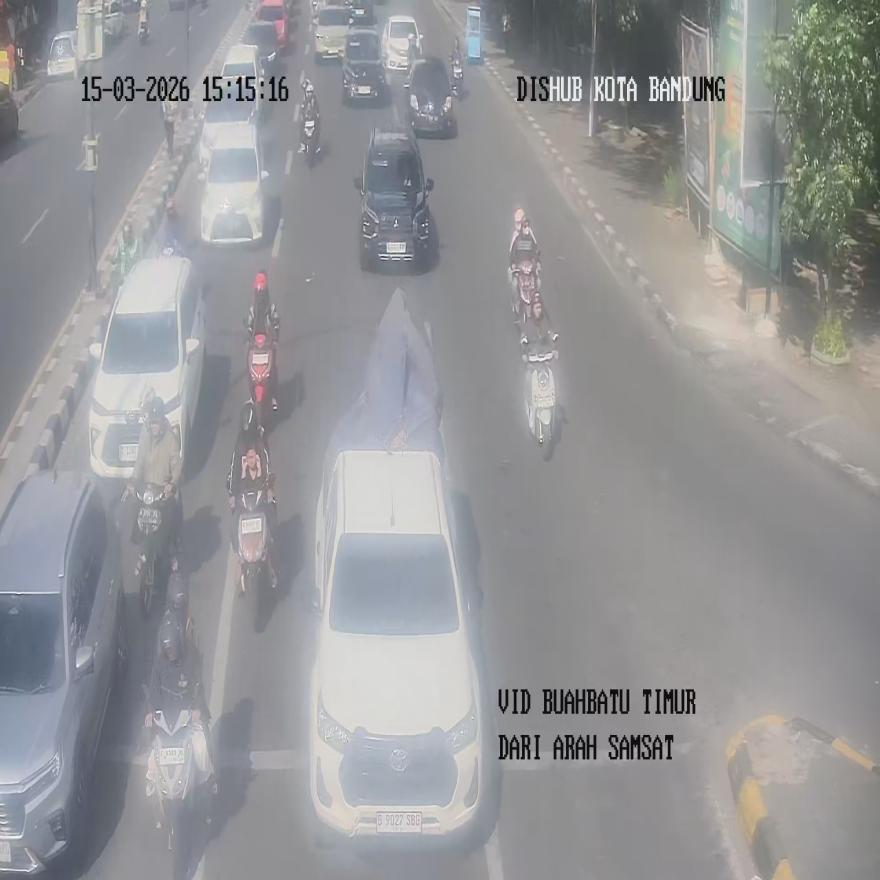Motor: (306, 436, 484, 850), (0, 466, 127, 874), (88, 254, 206, 483), (354, 123, 434, 266), (199, 120, 269, 245)
Truk: (227, 454, 278, 630), (135, 484, 180, 618), (508, 211, 541, 330), (246, 333, 277, 439), (524, 354, 555, 453), (302, 96, 320, 167), (137, 2, 149, 44), (451, 56, 462, 97), (501, 11, 512, 52)
